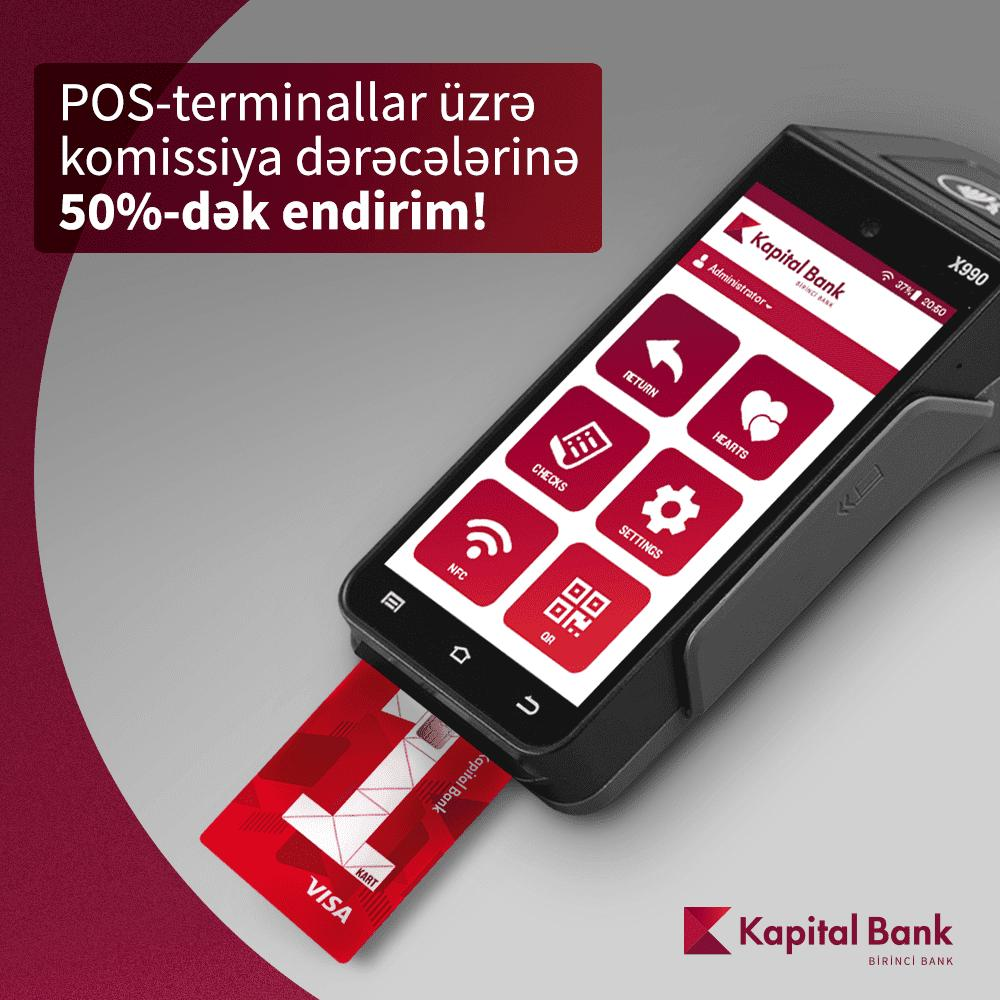Kapital Bank: (681, 905, 734, 958), (722, 211, 763, 245)
